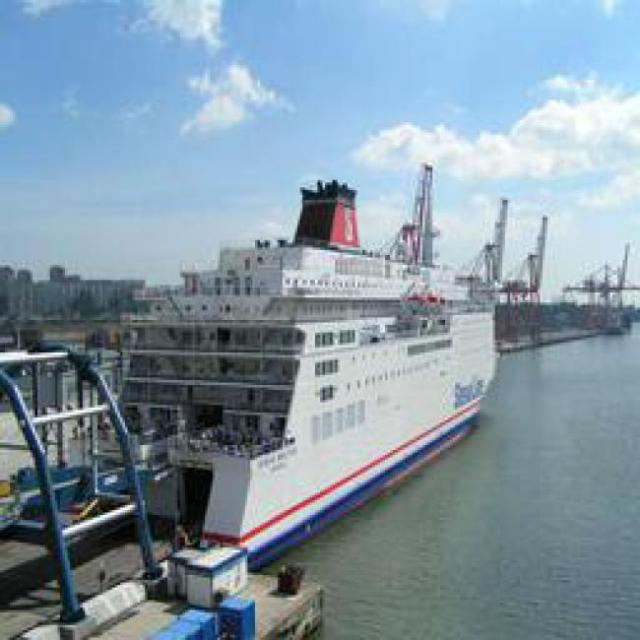boat: (137, 232, 527, 492)
